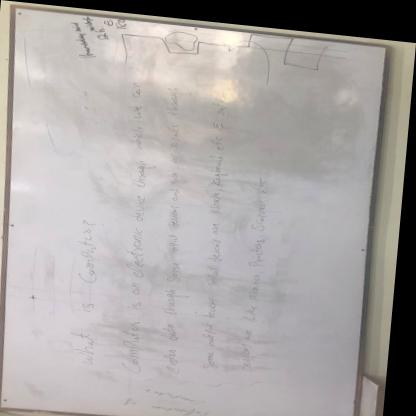Handwritten text: (190, 78, 252, 368), (154, 77, 200, 374), (226, 165, 285, 369), (120, 75, 158, 375), (64, 222, 122, 365), (52, 8, 103, 68), (122, 391, 222, 416), (144, 380, 219, 407)
Whiteboard: (0, 6, 388, 416)
